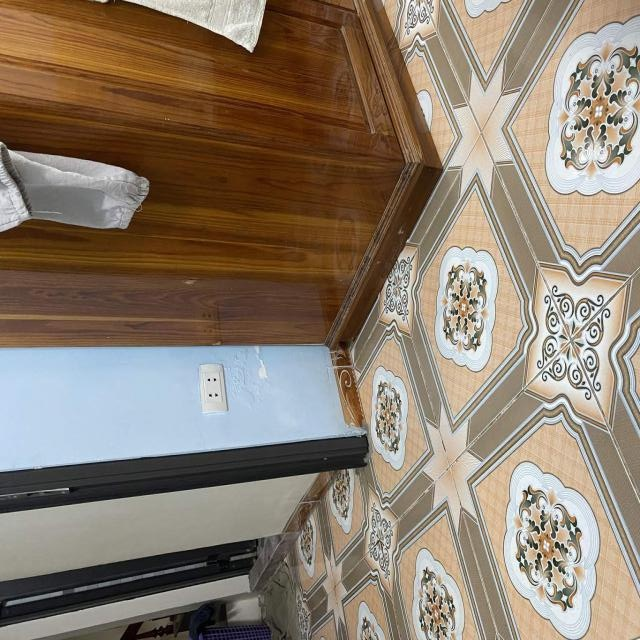outlet: (198, 364, 228, 414)
